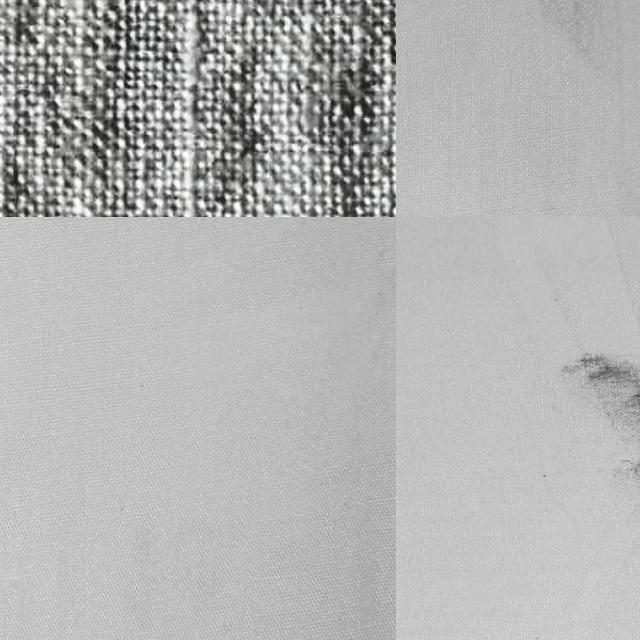Thread_other: (554, 339, 640, 590)
